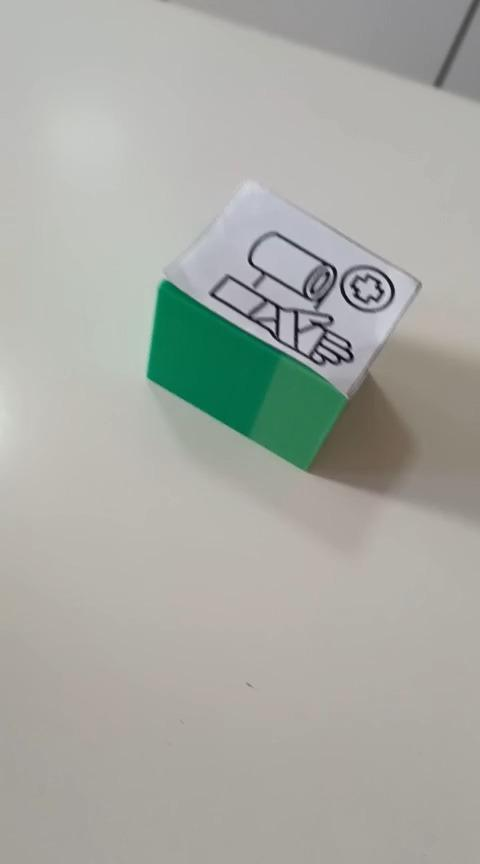Bandages: (145, 177, 422, 472)
